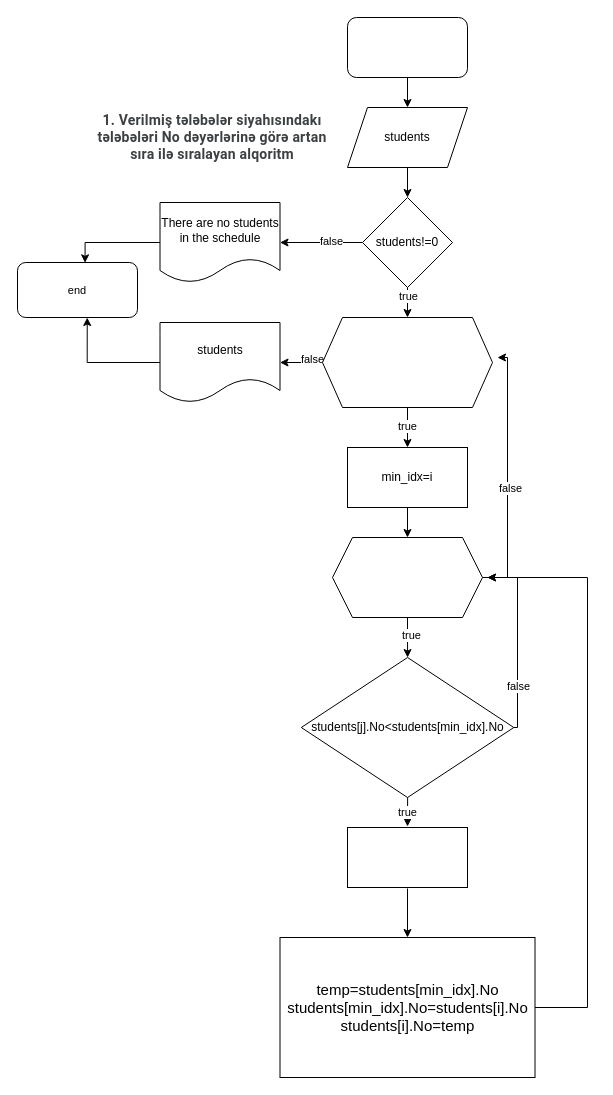
Some shapes in this 613 by 1095 pixel diagram are drawn without their labels. The centre of each missing label's shape, as x and y in pixels:
i=0; i<students.length-1; i++: pixel 407 362
j=i+1; j<students.length; j++: pixel 407 577
min_idx=j: pixel 407 857
start: pixel 407 47
